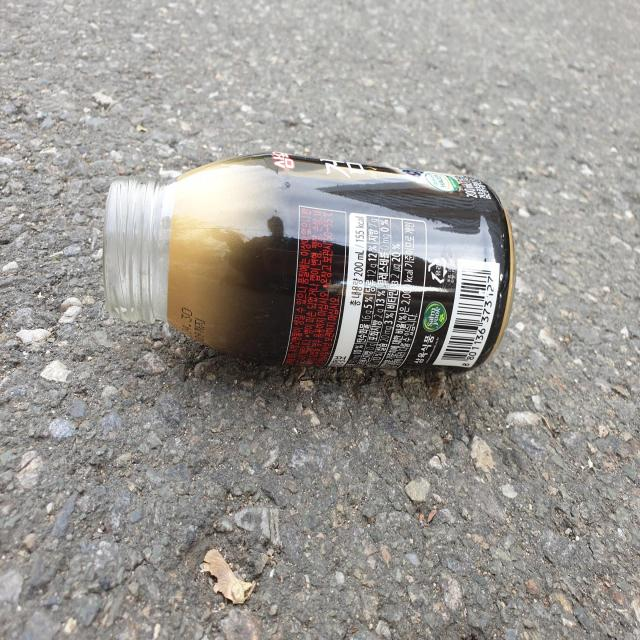glass: (103, 151, 516, 368)
